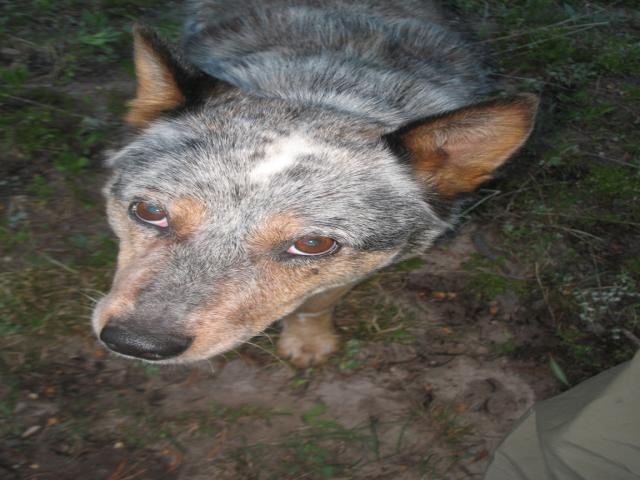Dog: (69, 0, 541, 373)
